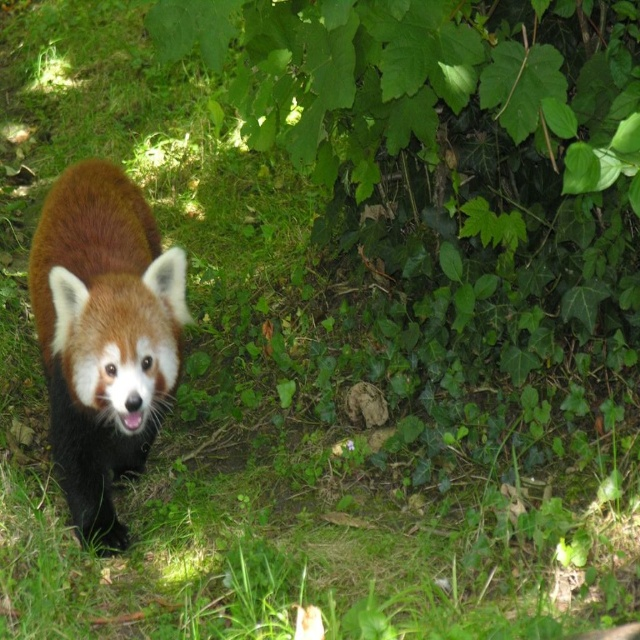Bear: (27, 156, 197, 560)
